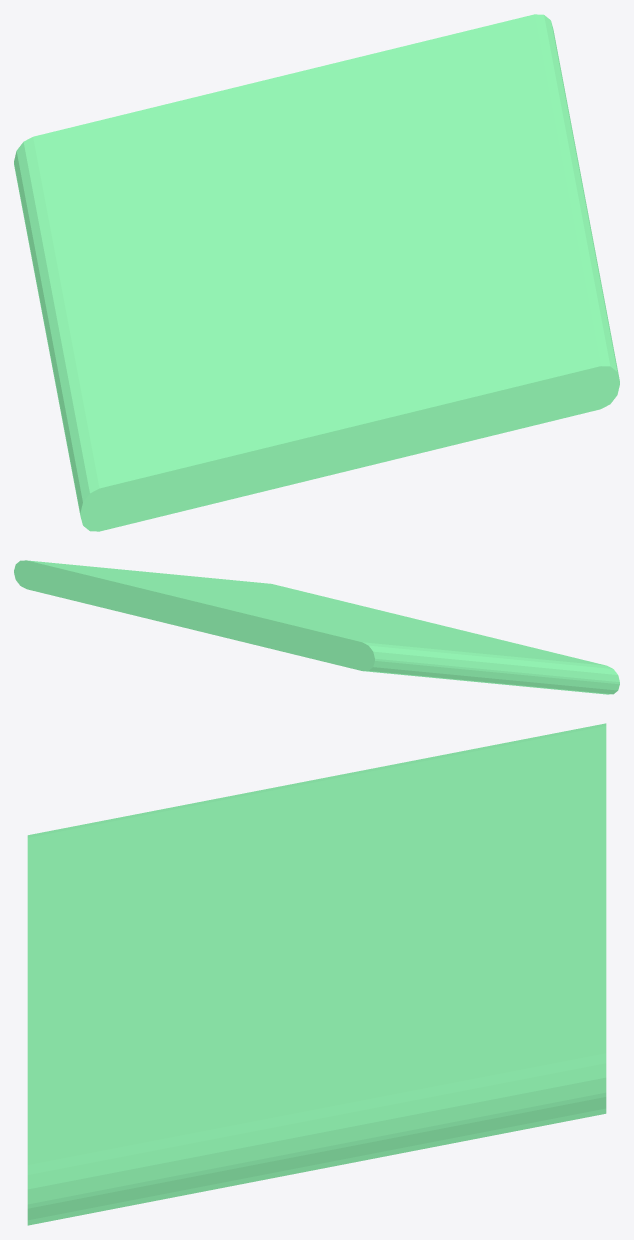
The model's file is Spring_PadHot.gltf.
The picture shows the model from 3 angles, top to bottom: view 1: azimuth 30°, elevation 25°; view 2: azimuth 150°, elevation 25°; view 3: azimuth 270°, elevation 25°; orthographic projection. The views are drawn at different scales.
Parts seen in each view (by area): view 1: Spring_PadHot_baked; view 2: Spring_PadHot_baked; view 3: Spring_PadHot_baked.
Part boxes in pixels (left/top/right/bottom): Spring_PadHot_baked: left=14, top=14, right=619, bottom=531; Spring_PadHot_baked: left=14, top=560, right=619, bottom=694; Spring_PadHot_baked: left=27, top=723, right=606, bottom=1225.
Size of the model in its own units: 0.92 by 0.255 by 0.5.
